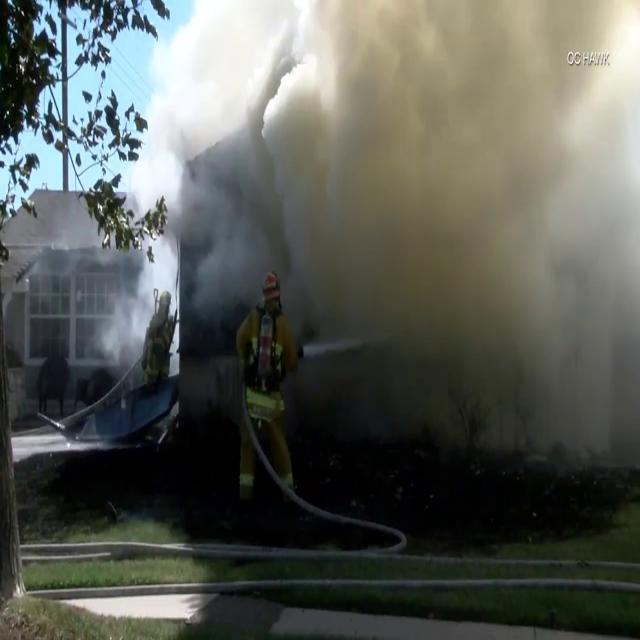Smoke: (111, 0, 640, 519)
